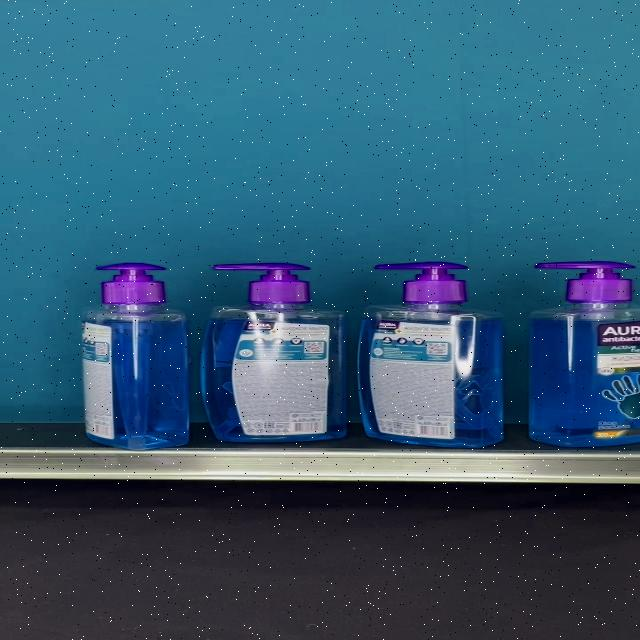Bottle: (358, 263, 503, 448), (200, 263, 348, 443), (80, 262, 190, 450), (529, 262, 640, 447)
Cap: (534, 262, 634, 304), (213, 263, 312, 304), (374, 262, 468, 304), (96, 263, 166, 304)
